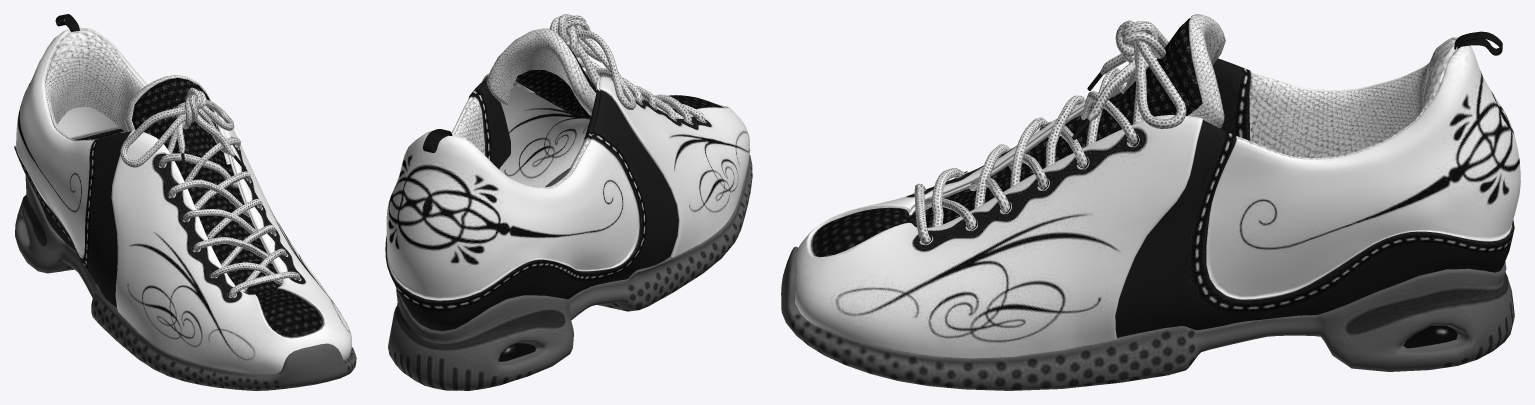
File: sneaker-high.FBX
The picture shows the model from 3 angles, left to right: view 1: azimuth 30°, elevation 25°; view 2: azimuth 150°, elevation 25°; view 3: azimuth 270°, elevation 25°; orthographic projection. The views are drawn at different scales.
Parts seen in each view (by area): view 1: sneaker_high; view 2: sneaker_high; view 3: sneaker_high.
Boxes of the visible parts, x1,y1,x2,y2 form: sneaker_high: [14, 14, 356, 390]; sneaker_high: [385, 14, 752, 390]; sneaker_high: [781, 14, 1520, 390].
Bounding box in the file's own units: 9.2 × 12.33 × 25.2.
